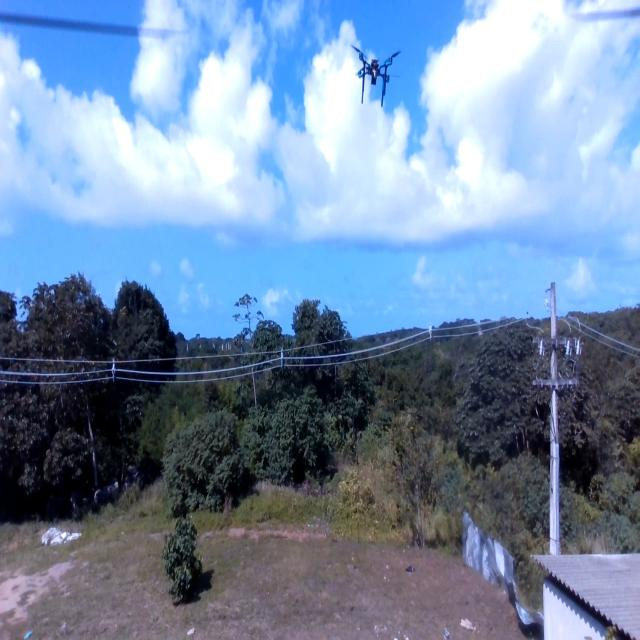-uav-: (345, 33, 406, 126)
